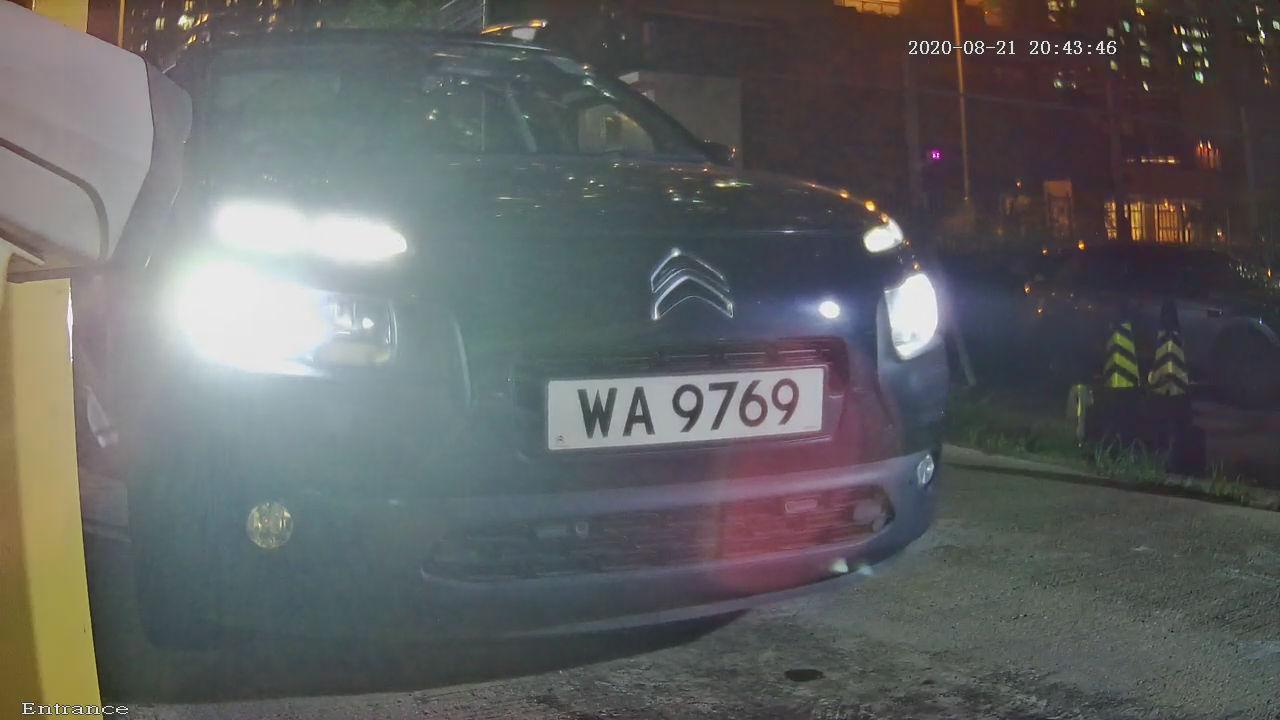Car: (1, 23, 1023, 631)
License Plate: (501, 330, 872, 485)
